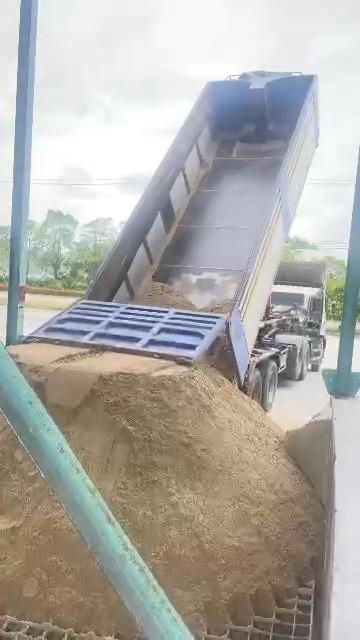sand: (16, 344, 321, 625), (1, 428, 131, 633), (285, 409, 334, 509), (133, 281, 231, 314), (134, 281, 230, 314), (132, 282, 196, 310), (207, 334, 235, 382)
